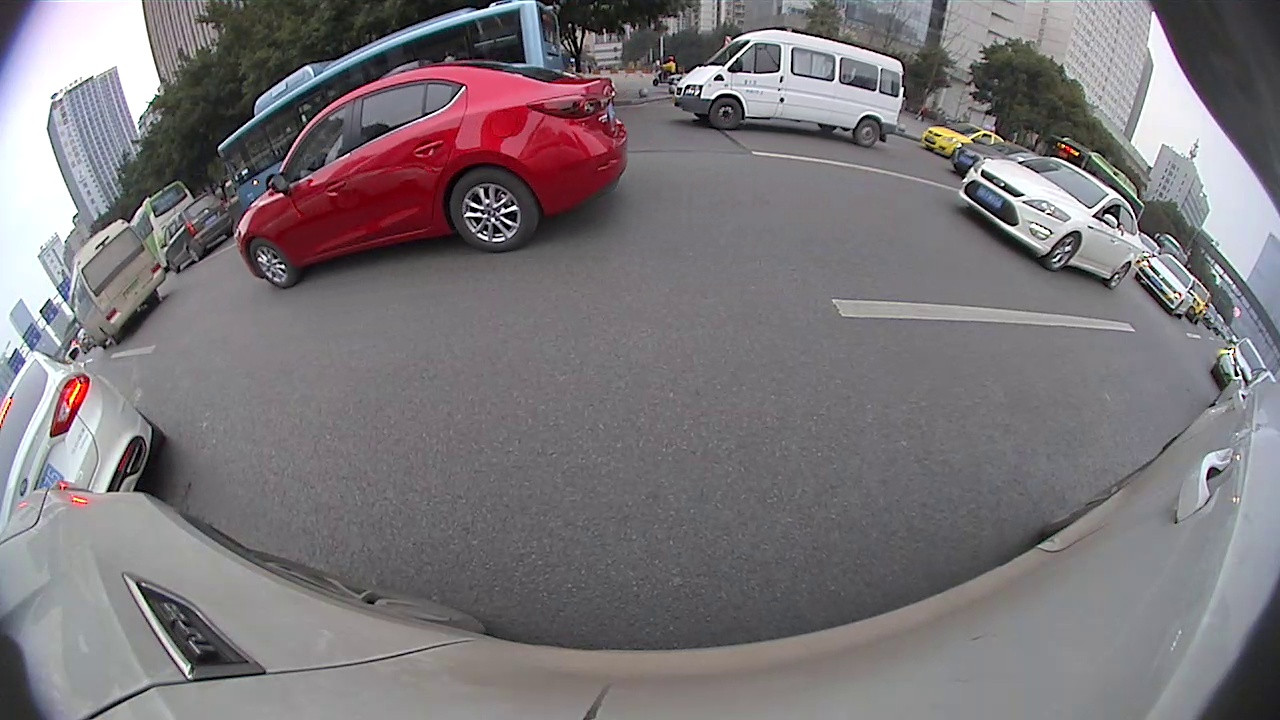bus: (221, 1, 559, 210), (69, 219, 163, 348)
car: (233, 63, 631, 289), (674, 29, 902, 145), (1, 355, 166, 513), (961, 159, 1137, 290), (160, 193, 233, 275), (1138, 254, 1197, 318)
front: (247, 235, 297, 290), (1047, 231, 1083, 271), (710, 96, 744, 131)
rear: (449, 163, 539, 252), (855, 118, 879, 148), (1109, 261, 1132, 291)
